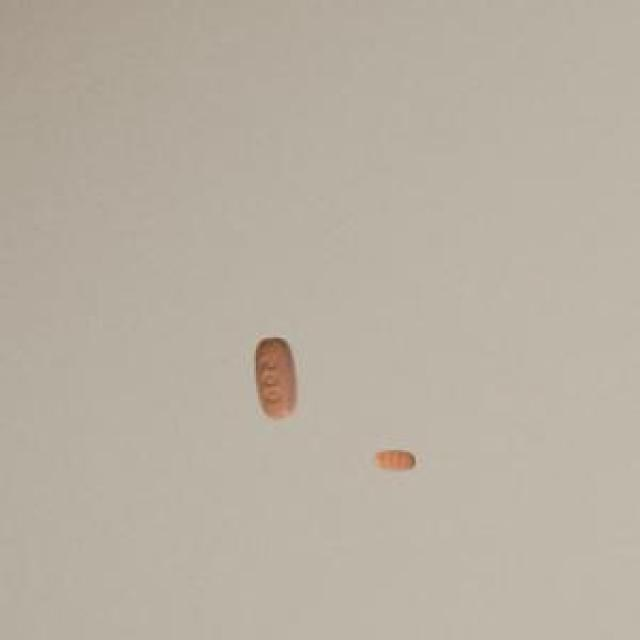Biogesic: (245, 314, 311, 431), (364, 438, 426, 482)
